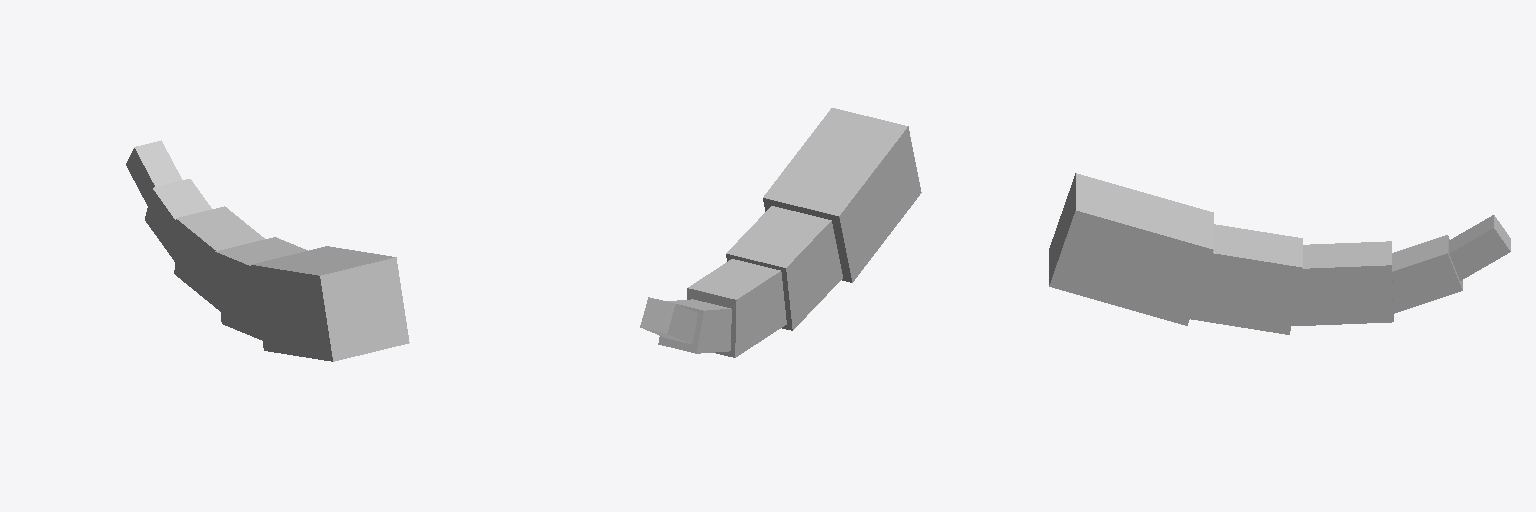
The model's file is horizontal_tusk.obj.
3 views of the same model, side by side, from view 1: azimuth 30°, elevation 25°; view 2: azimuth 150°, elevation 25°; view 3: azimuth 270°, elevation 25° (orthographic).
Visible parts, largest first — view 1: cube; view 2: cube; view 3: cube.
Part boxes in pixels (x1,y1,x2,y2): cube: (126, 140, 409, 361); cube: (640, 108, 921, 357); cube: (1049, 173, 1510, 334).
Size of the model in its own units: 0.6475 by 1.04 by 3.39.